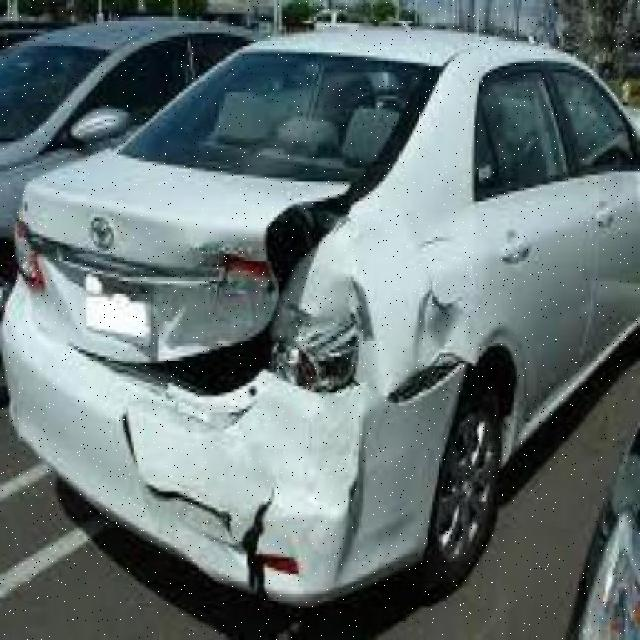damage: (22, 176, 482, 604)
